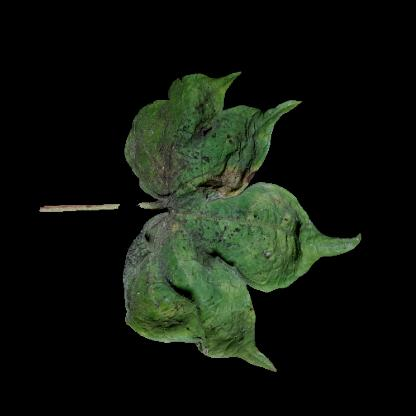curl_stage1: (247, 213, 301, 281), (152, 282, 204, 332), (208, 294, 244, 351), (214, 164, 256, 200), (254, 189, 286, 217)
sooty: (152, 147, 204, 249), (203, 202, 240, 260), (128, 233, 153, 279), (190, 92, 212, 141), (127, 126, 145, 182)
